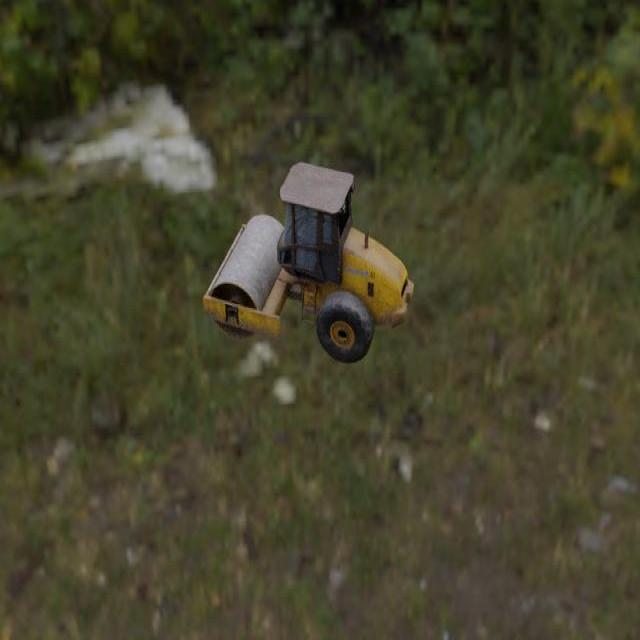Roller: (202, 161, 414, 364)
